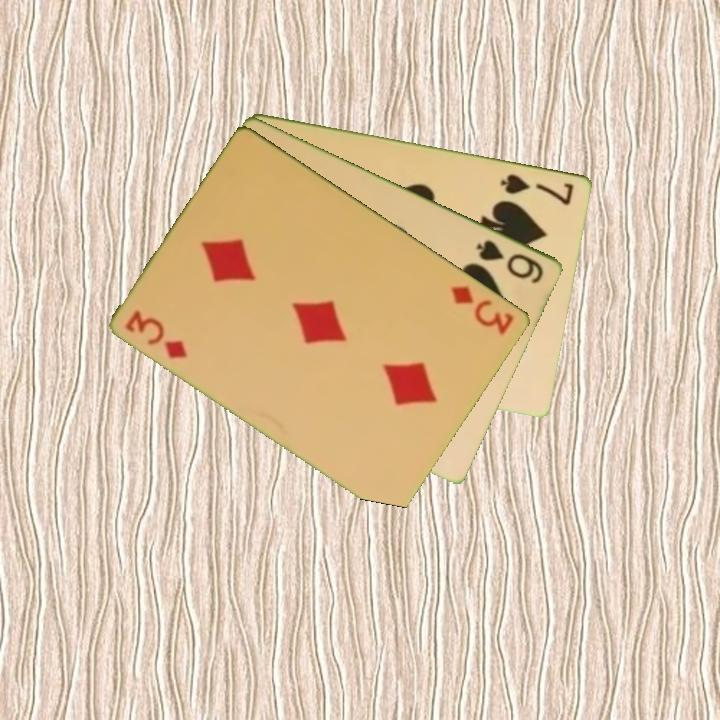3d: (447, 282, 518, 338), (122, 306, 192, 362)
6s: (473, 236, 548, 287)
7s: (497, 170, 577, 208)
